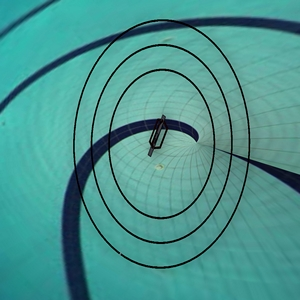circle: (72, 8, 256, 277)
submarine: (140, 112, 182, 164)
